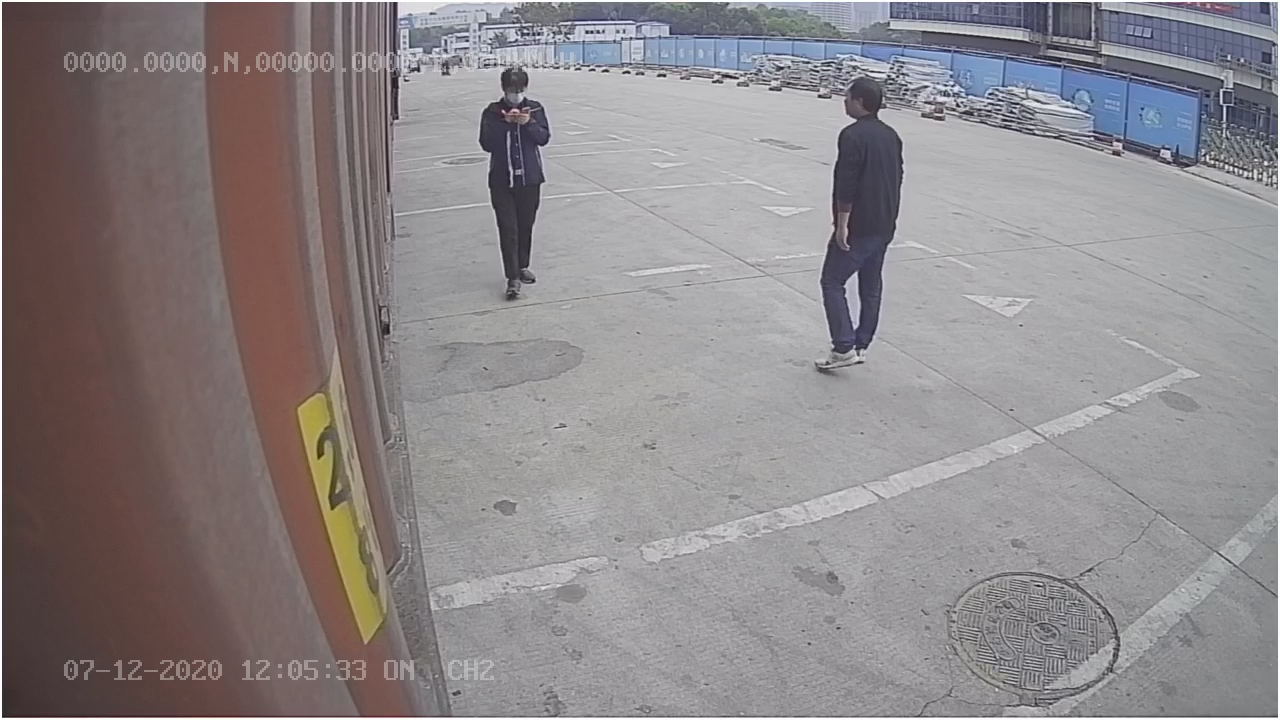person: (797, 73, 911, 374), (471, 62, 559, 301)
